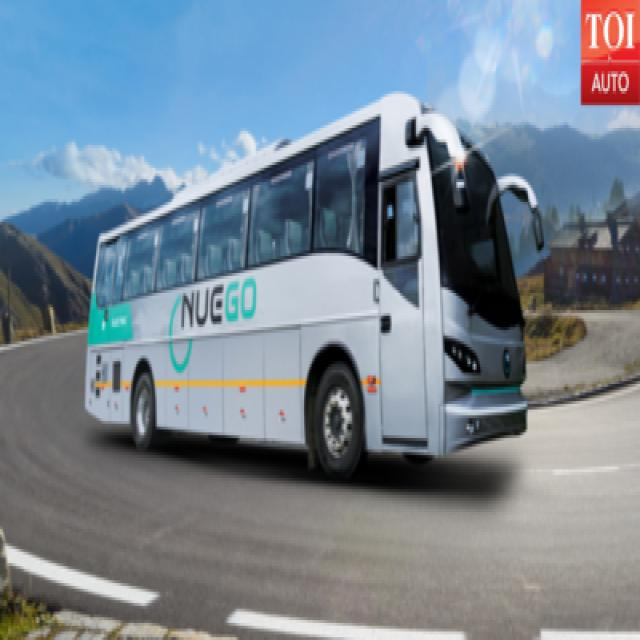bus: (87, 93, 542, 477)
